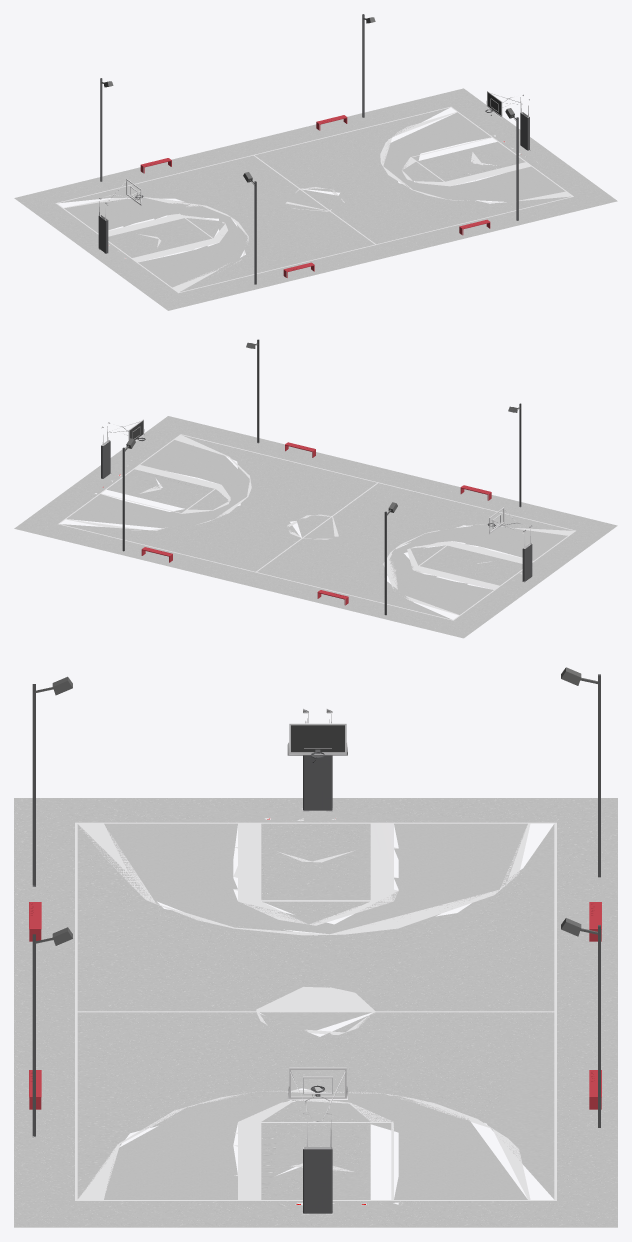
Rendered from Basketball_court.glb.
3 views of the same model, one above another, from view 1: azimuth 30°, elevation 25°; view 2: azimuth 150°, elevation 25°; view 3: azimuth 270°, elevation 25° (orthographic). The views are drawn at different scales.
Visible parts, largest first — view 1: Obj3d66-14452628-93-628, Obj3d66-14452628-1-926; view 2: Obj3d66-14452628-93-628, Obj3d66-14452628-1-926; view 3: Obj3d66-14452628-93-628, Obj3d66-14452628-1-926.
Boxes of the visible parts, left/top/right/bottom form: Obj3d66-14452628-93-628: left=14, top=88, right=617, bottom=310; Obj3d66-14452628-1-926: left=56, top=14, right=573, bottom=293; Obj3d66-14452628-93-628: left=14, top=416, right=617, bottom=638; Obj3d66-14452628-1-926: left=58, top=339, right=575, bottom=620; Obj3d66-14452628-93-628: left=14, top=798, right=617, bottom=1227; Obj3d66-14452628-1-926: left=29, top=667, right=601, bottom=1214.
Bounding box in the file's own units: 32 × 7.2 × 19.
Materials: 2 (2 with a texture image).
